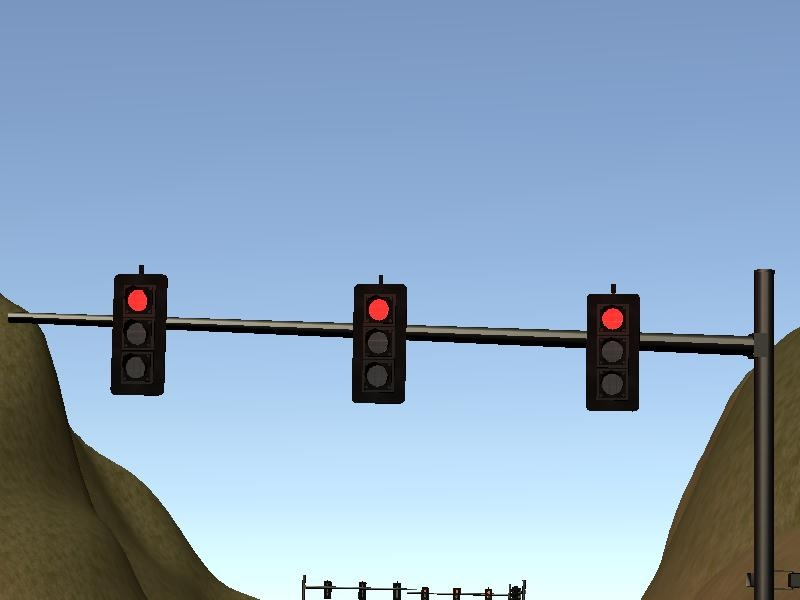RED: (112, 275, 168, 396), (585, 294, 640, 413), (351, 283, 406, 402)
